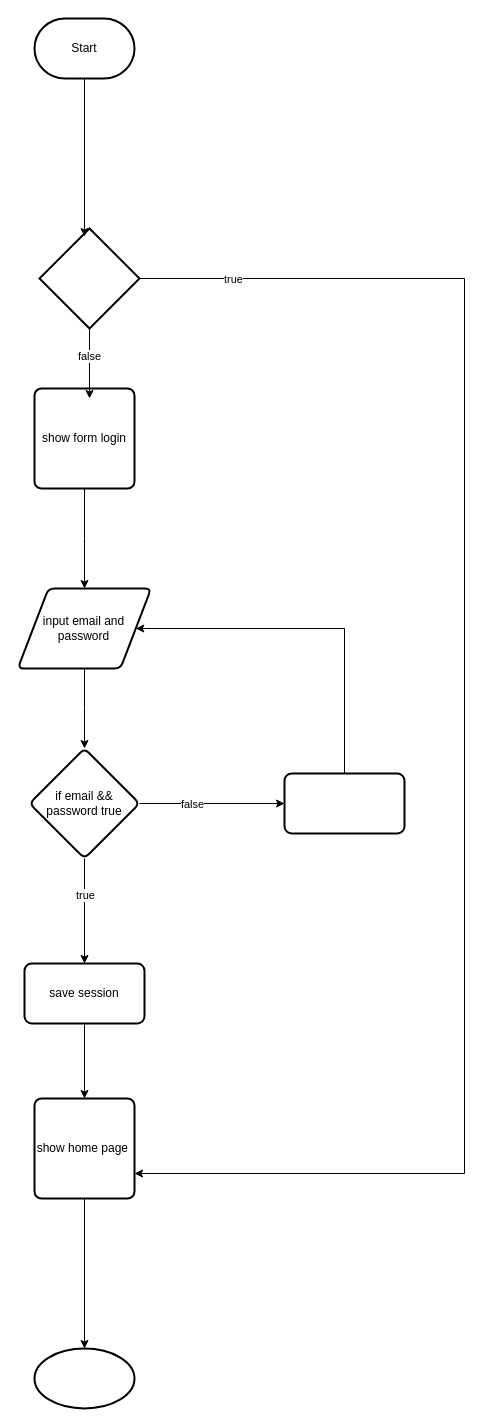
This 491x1426 diagram has some shape labels left out. The shapes that lost their labels are listed below. From the top down, each one's box as (x1, y1, x2, y2) in pixels, then its label:
(38, 227, 140, 329): if has session
(283, 772, 405, 834): show message error
(33, 1347, 135, 1409): end
